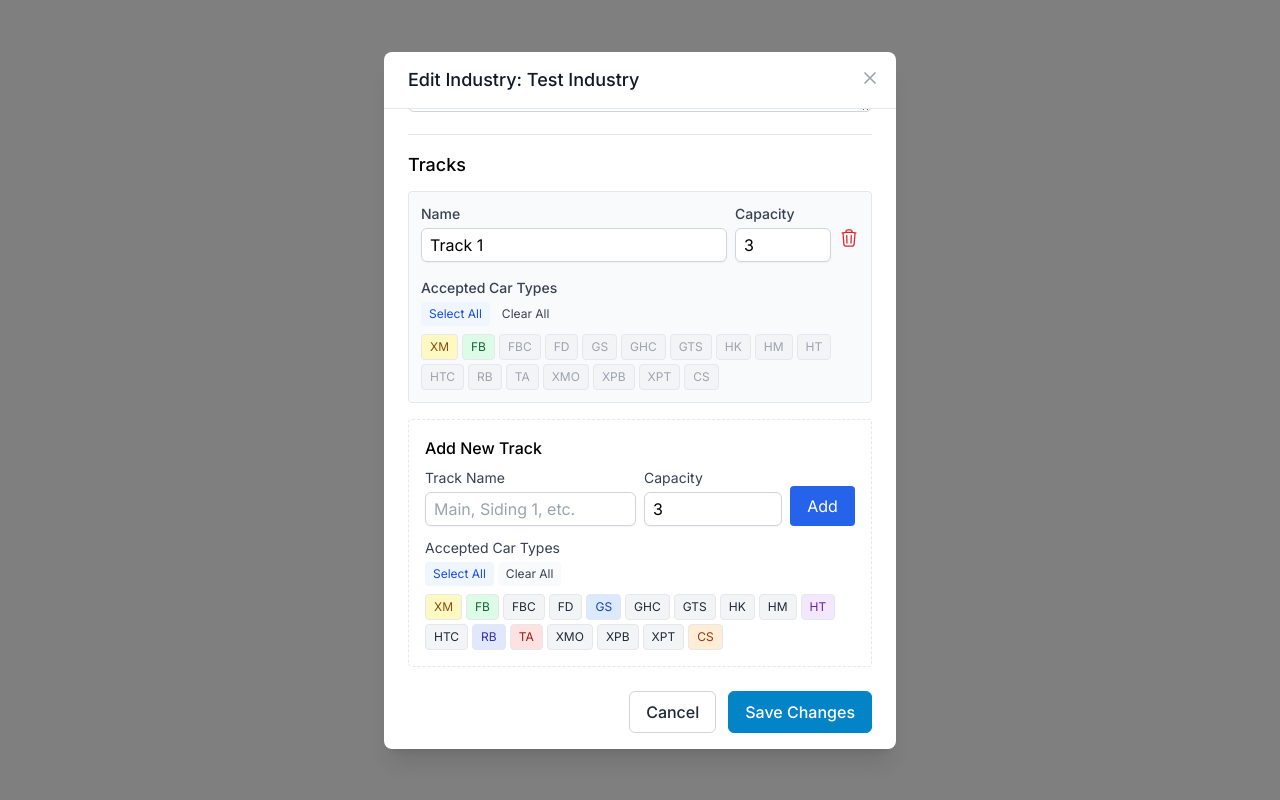
Test case: EditIndustryModal › allows adding a new track
The width and height of the screenshot is (1280, 800).
(page scrolled)
# Fill in new track details - use more specific selectors
Type "New Track" into the field with placeholder "Main, Siding 1, etc.". click: (530, 508)
box: [425,492,636,526]
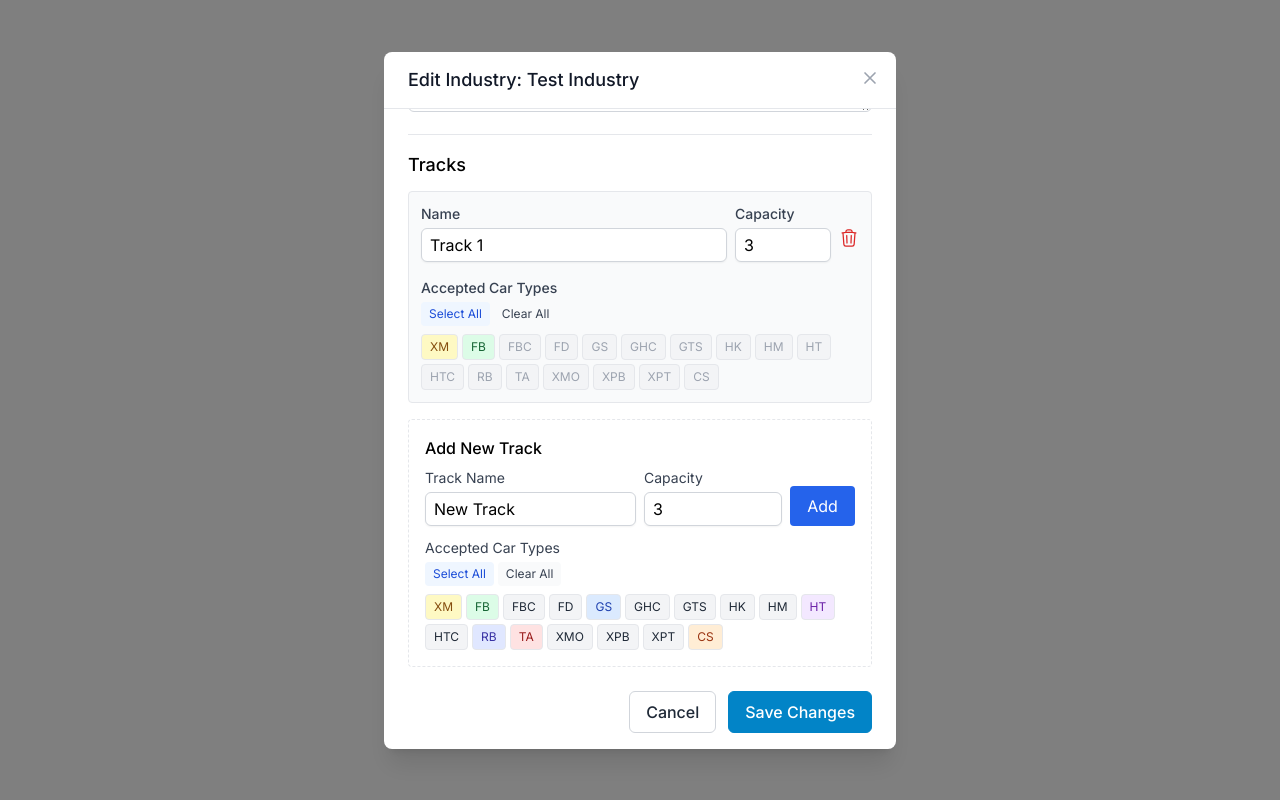
# Use id to find the capacity input
Replace the text in the number field with id "new-track-capacity" with "5". click: (713, 508)
box: [644,492,782,526]
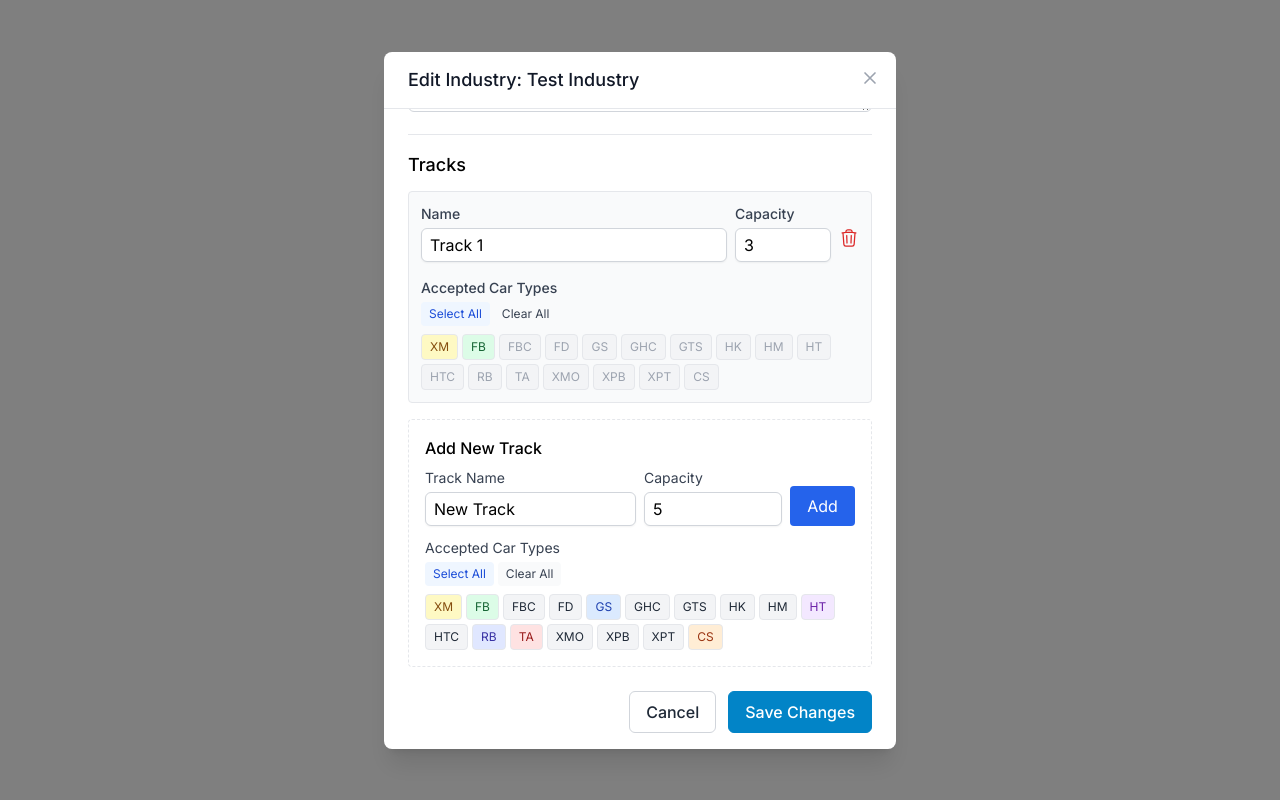
# Add the track
Click the button "Add". click: (822, 506)
box: [790,486,855,526]
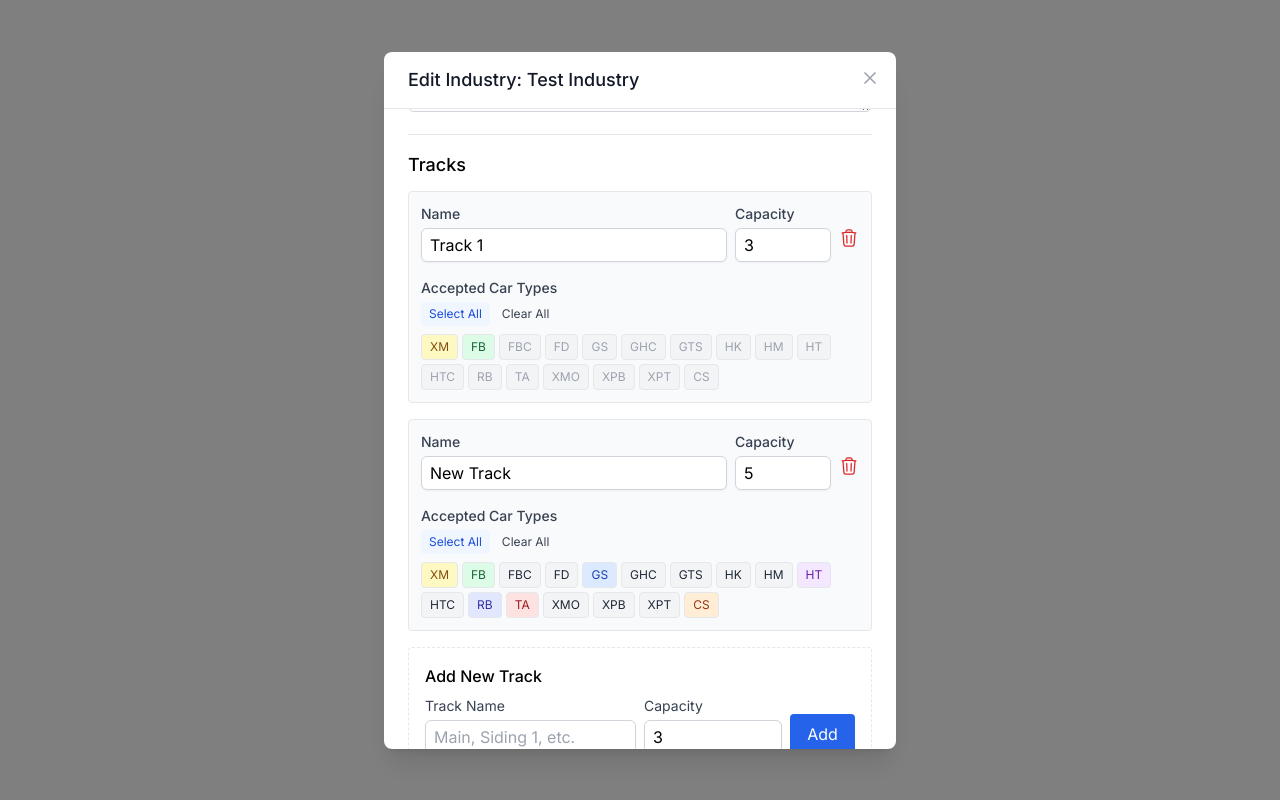
Expected: the field with test id "track-name-0" holds "Track 1", [421,228,727,262]
Expected: the field with test id "track-name-1" holds "New Track", [421,456,727,490]
Expected: the number field with test id "track-capacity-1" holds "5", [735,456,831,490]
